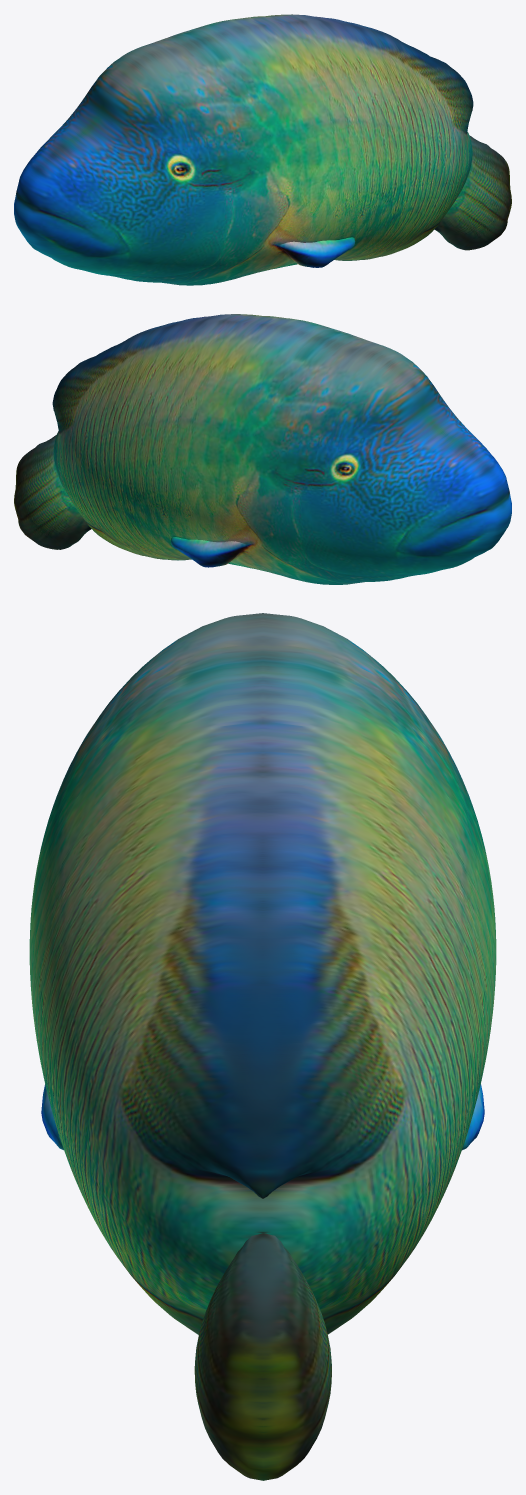
File: humphead-wrasse.glb
3 views of the same model, one above another, from view 1: azimuth 30°, elevation 25°; view 2: azimuth 150°, elevation 25°; view 3: azimuth 270°, elevation 25° (orthographic). The views are drawn at different scales.
Parts seen in each view (by area): view 1: mm_frame (25); view 2: mm_frame (25); view 3: mm_frame (25).
Part boxes in pixels (x1,y1,x2,y2): mm_frame (25): (14,14,511,285); mm_frame (25): (14,314,511,584); mm_frame (25): (29,613,496,1480).
Bounding box in the file's own units: 8.73 × 4.68 × 3.6.
1 material, 1 textured.
